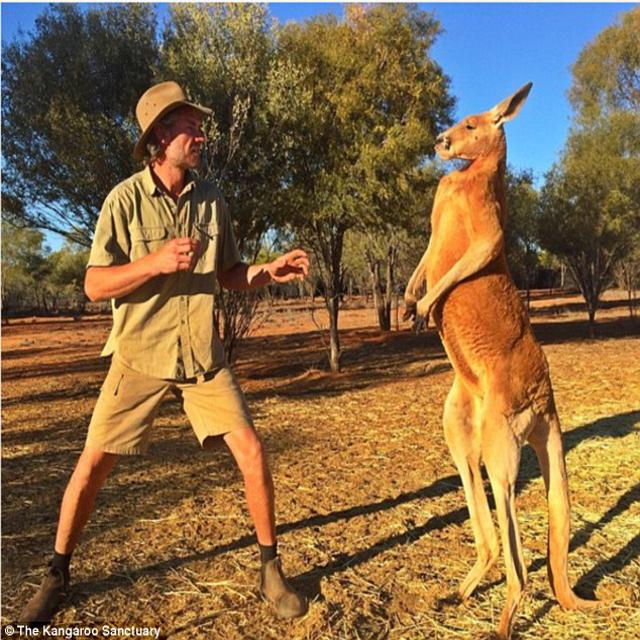kangaroo: (401, 88, 573, 622)
